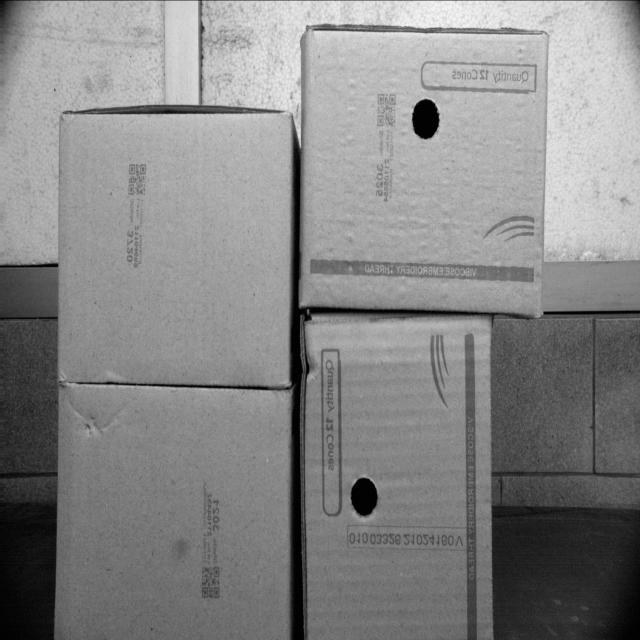cardboxes: (301, 22, 547, 314), (56, 112, 294, 382), (302, 314, 491, 639), (56, 389, 290, 639)
